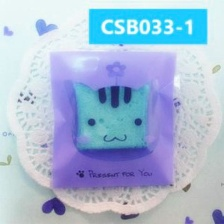snack: (38, 42, 185, 194)
